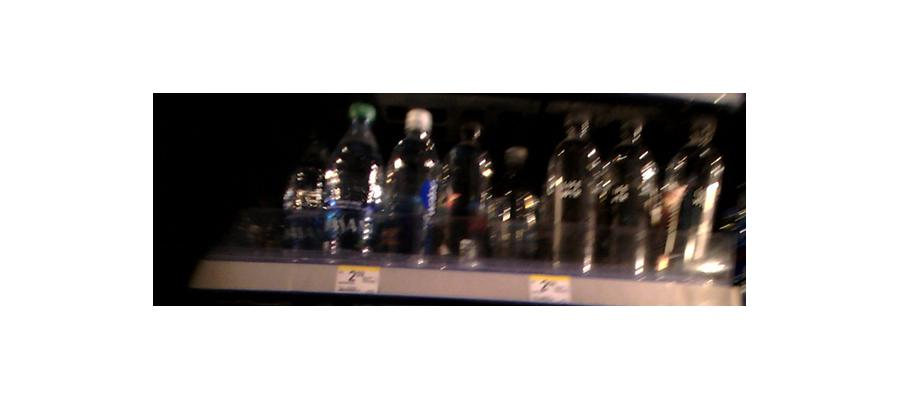bottle: (541, 112, 609, 270), (320, 102, 383, 265), (380, 108, 441, 265), (668, 113, 724, 277), (616, 124, 662, 273), (444, 128, 492, 269), (492, 143, 538, 263), (280, 133, 319, 255)
